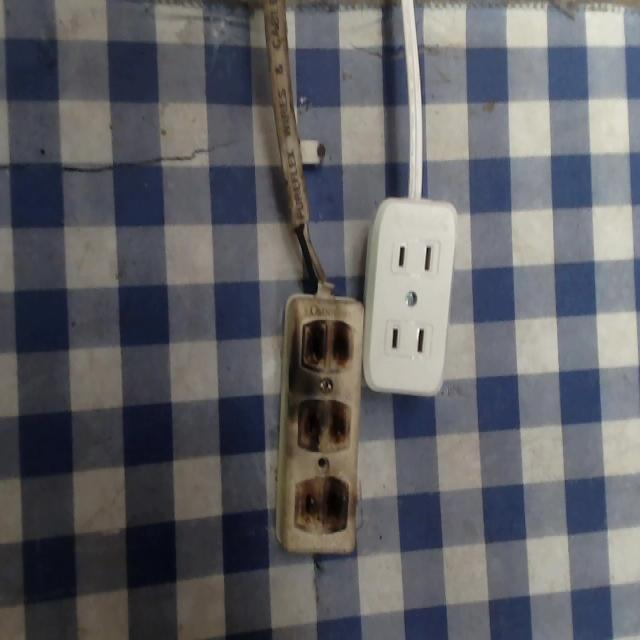-: (287, 475, 351, 540), (295, 316, 354, 380), (299, 394, 357, 458)
